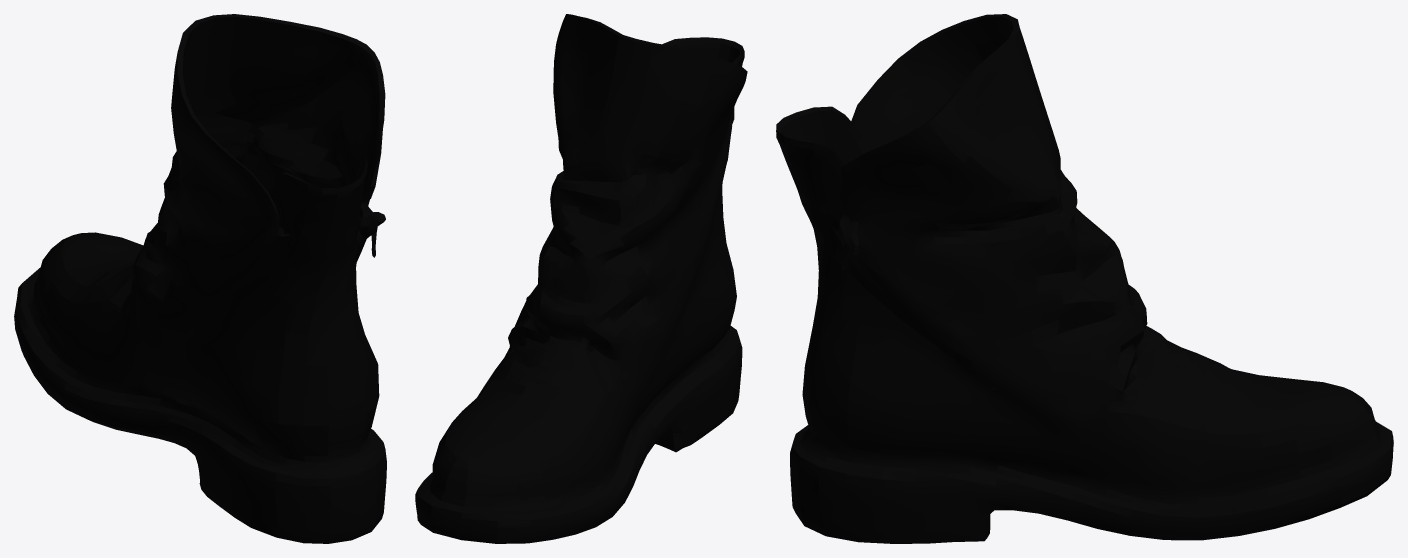
3 renders of one model, left to right at view 1: azimuth 30°, elevation 25°; view 2: azimuth 150°, elevation 25°; view 3: azimuth 270°, elevation 25°, orthographic. The views are drawn at different scales.
Parts seen in each view (by area): view 1: tripo_node_bda223fd-ce62-4d20-a530-d9d512fb2c75_0; view 2: tripo_node_bda223fd-ce62-4d20-a530-d9d512fb2c75_0; view 3: tripo_node_bda223fd-ce62-4d20-a530-d9d512fb2c75_0.
Part boxes in pixels (x1=…): tripo_node_bda223fd-ce62-4d20-a530-d9d512fb2c75_0: x1=14, y1=14, x2=386, y2=543; tripo_node_bda223fd-ce62-4d20-a530-d9d512fb2c75_0: x1=415, y1=14, x2=747, y2=543; tripo_node_bda223fd-ce62-4d20-a530-d9d512fb2c75_0: x1=776, y1=14, x2=1393, y2=543.
Bounding box in the file's own units: 0.3671 × 0.8336 × 0.9933.
Materials: 1 (1 with a texture image).
